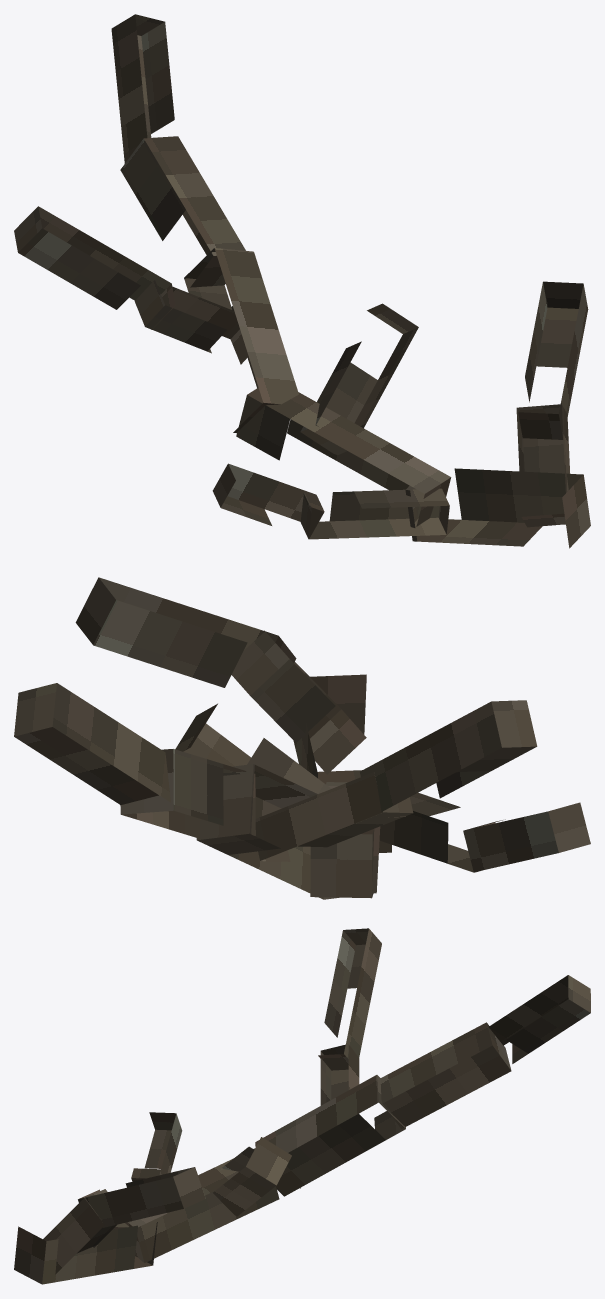
File: oak_twig_branch_up_2.obj
3 views of the same model, one above another, from view 1: azimuth 30°, elevation 25°; view 2: azimuth 150°, elevation 25°; view 3: azimuth 270°, elevation 25° (orthographic). The views are drawn at different scales.
Visible parts, largest first — view 1: cube; view 2: cube; view 3: cube.
Part boxes in pixels (x1,y1,x2,y2): cube: (14,14,590,548); cube: (14,577,590,899); cube: (14,928,590,1284).
Bounding box in the file's own units: 2.22 × 1.51 × 2.9.
